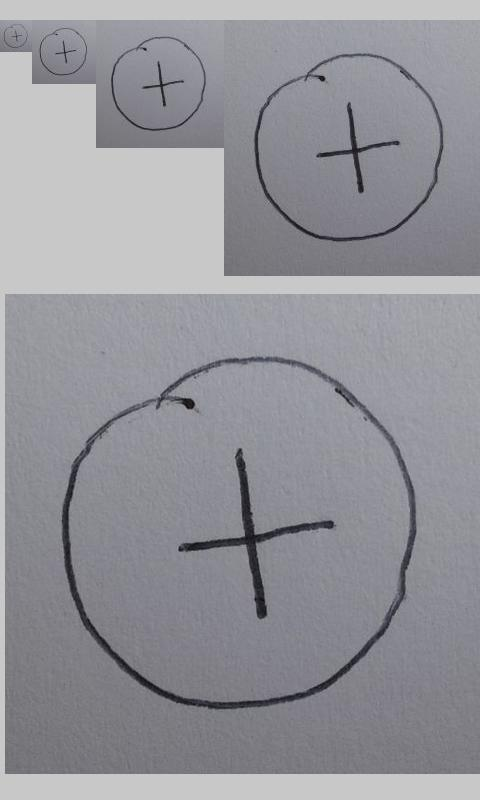button: (59, 353, 422, 713), (254, 51, 445, 243), (110, 35, 206, 132), (38, 27, 89, 77), (3, 23, 28, 48)
